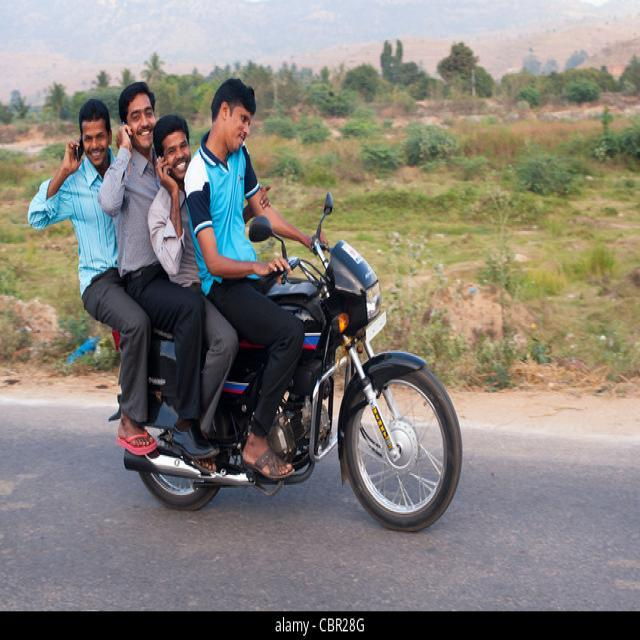No helmet: (207, 76, 258, 160)
Triple riding: (70, 72, 304, 332)
